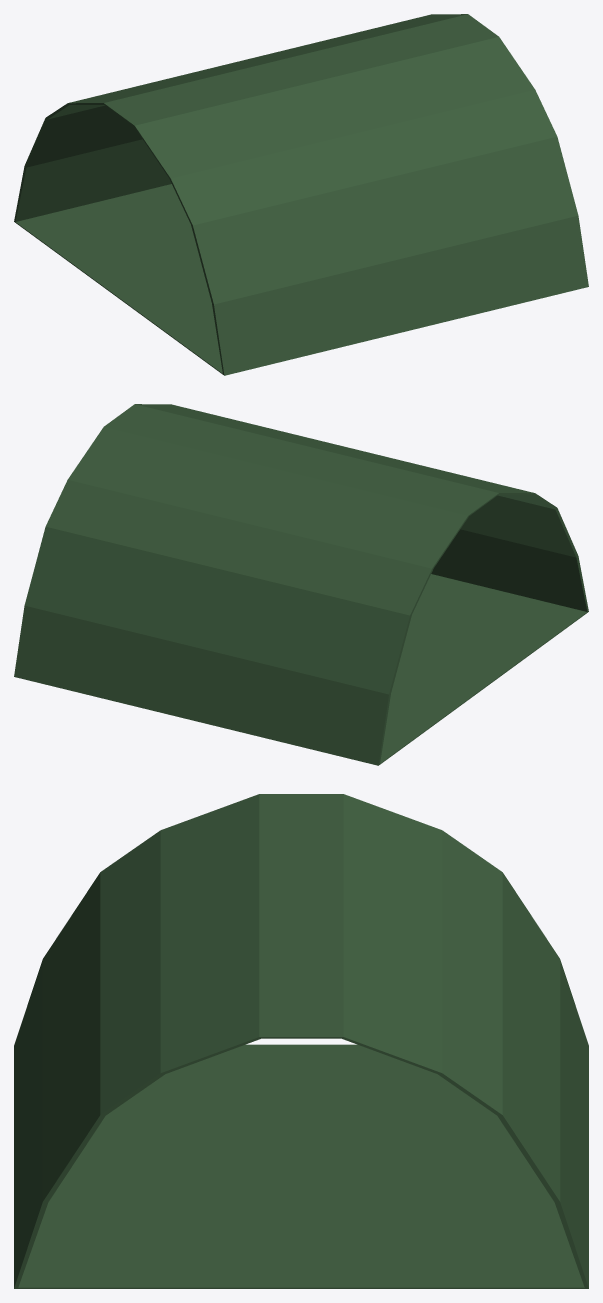
3 views of the same model, one above another, from view 1: azimuth 30°, elevation 25°; view 2: azimuth 150°, elevation 25°; view 3: azimuth 270°, elevation 25° (orthographic). The views are drawn at different scales.
Visible parts, largest first — view 1: Cube; view 2: Cube; view 3: Cube.
Part boxes in pixels (x1,y1,x2,y2): Cube: (14, 14, 588, 375); Cube: (14, 404, 588, 765); Cube: (14, 794, 588, 1288).
Bounding box in the file's own units: 6 × 6 × 2.9.
